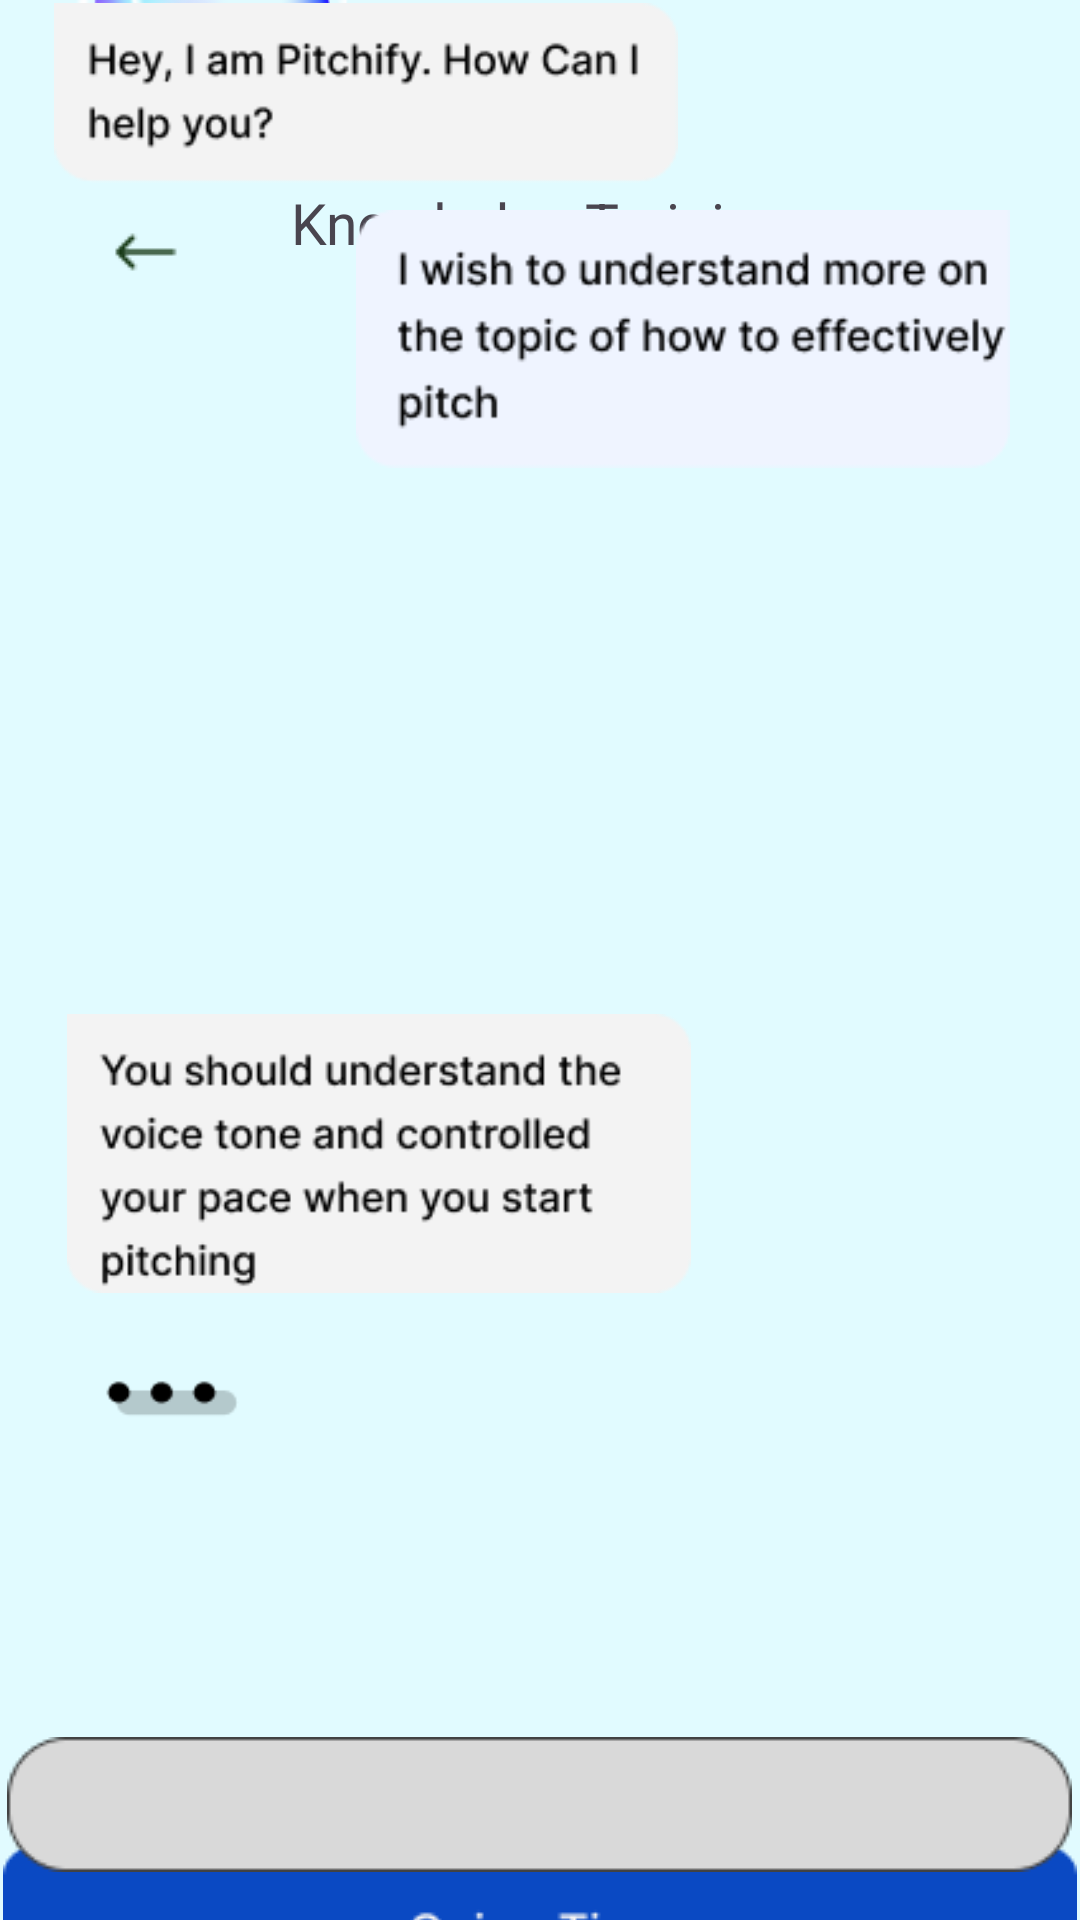

Where to tap for icons on this 1080×1920 app screen, as [x,y]:
back resources: [146,252]
resources chatting dot: [171,1398]
